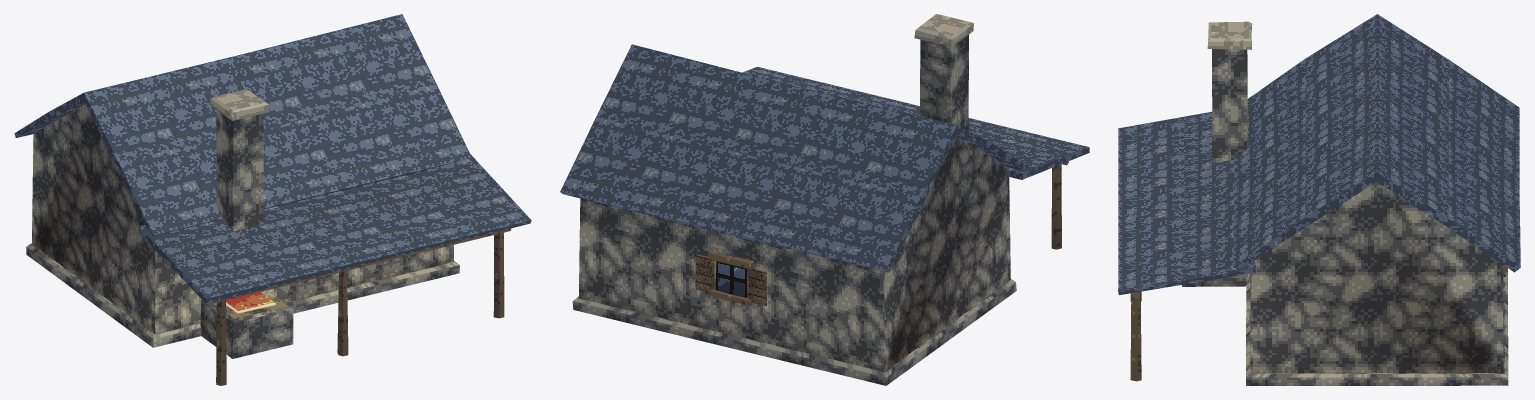
The model's file is vlg.smithy__doorway.glb.
The picture shows the model from 3 angles, left to right: view 1: azimuth 30°, elevation 25°; view 2: azimuth 150°, elevation 25°; view 3: azimuth 270°, elevation 25°; orthographic projection. The views are drawn at different scales.
Parts seen in each view (by area): view 1: kit_roof, kit_walls, kit_stonework, kit_frame, kit_fittings; view 2: kit_roof, kit_walls, kit_stonework, kit_fittings, kit_frame; view 3: kit_roof, kit_walls, kit_stonework, kit_frame.
Part boxes in pixels (x1,y1,x2,y2): kit_roof: (14,14,531,303); kit_walls: (31,104,453,334); kit_stonework: (26,89,459,358); kit_frame: (211,228,511,385); kit_fittings: (226,292,275,313); kit_roof: (560,44,1089,272); kit_walls: (578,136,1010,371); kit_stonework: (572,14,1016,385); kit_fittings: (695,250,766,306); kit_frame: (1051,161,1068,249); kit_roof: (1118,14,1520,295); kit_walls: (1250,182,1503,373); kit_stonework: (1182,21,1508,385); kit_frame: (1130,291,1141,381).
Bounding box in the file's own units: 7.63 × 5.26 × 7.94.
8 materials, 8 textured.
